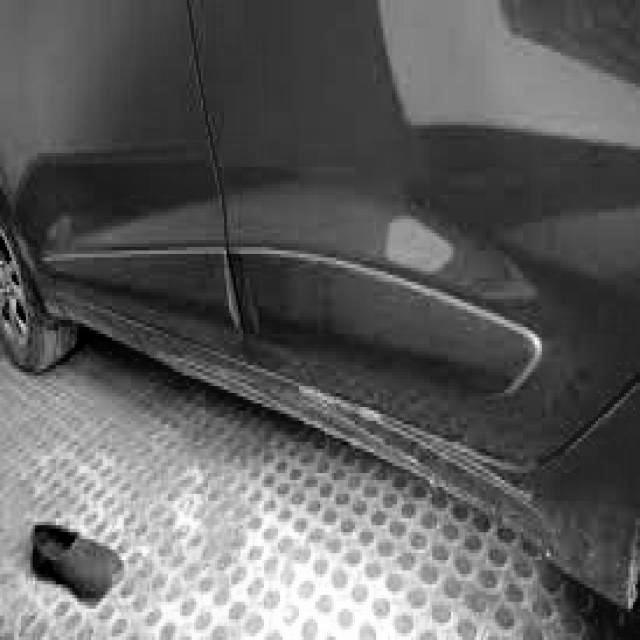Runningboard-Damage: (260, 386, 535, 532)
doorouter-dent: (0, 0, 238, 364)
